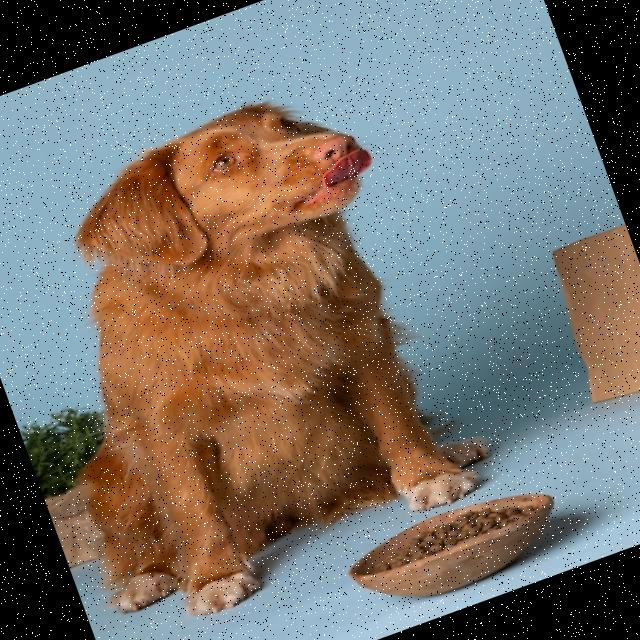Dog: (0, 66, 508, 640)
